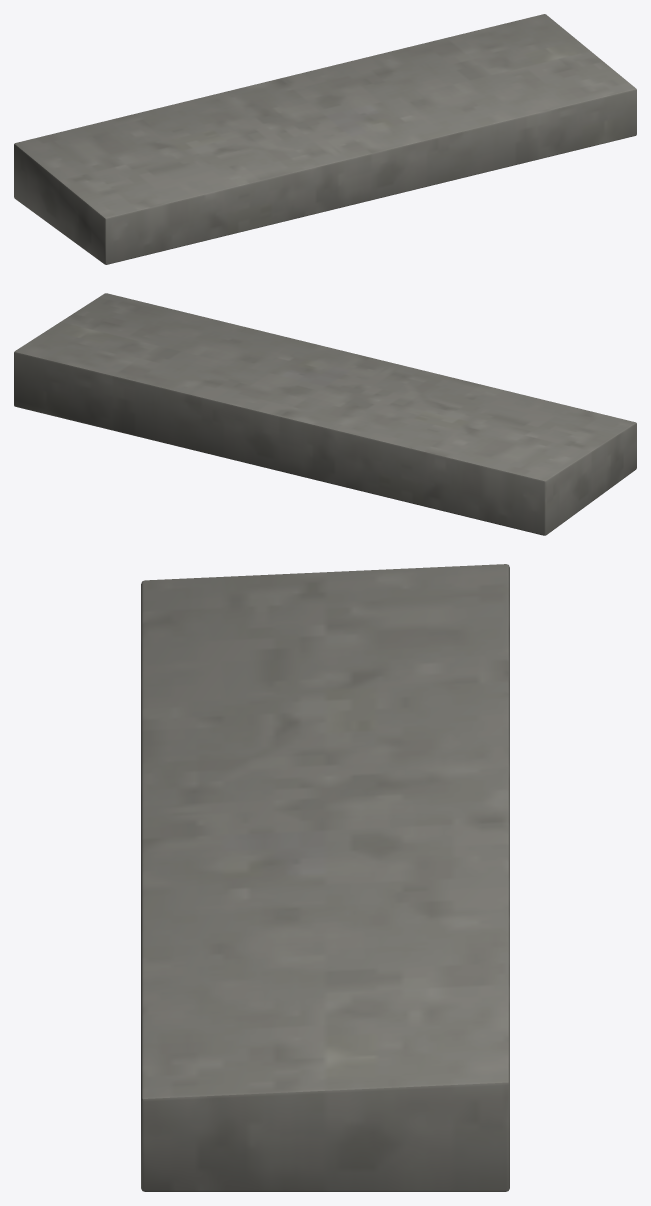
Rendered from PAV-GUI-003_lod1.glb.
3 views of the same model, one above another, from view 1: azimuth 30°, elevation 25°; view 2: azimuth 150°, elevation 25°; view 3: azimuth 270°, elevation 25° (orthographic). The views are drawn at different scales.
Visible parts, largest first — view 1: PAV-GUI-003_peca; view 2: PAV-GUI-003_peca; view 3: PAV-GUI-003_peca.
Boxes of the visible parts, x1,y1,x2,y2 form: PAV-GUI-003_peca: (14,14,636,264); PAV-GUI-003_peca: (14,293,636,535); PAV-GUI-003_peca: (141,564,509,1191).
Size of the model in its own units: 1 by 0.0999 by 0.3.
Materials: 1 (1 with a texture image).
